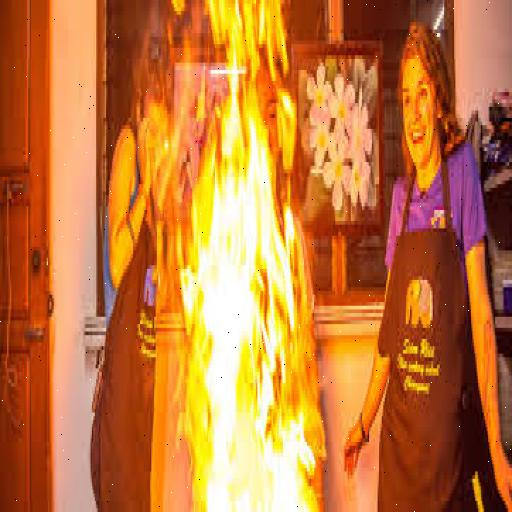fire: (158, 3, 340, 512), (202, 328, 293, 512), (204, 81, 273, 203), (297, 398, 325, 512), (168, 357, 195, 457), (171, 4, 217, 52)
